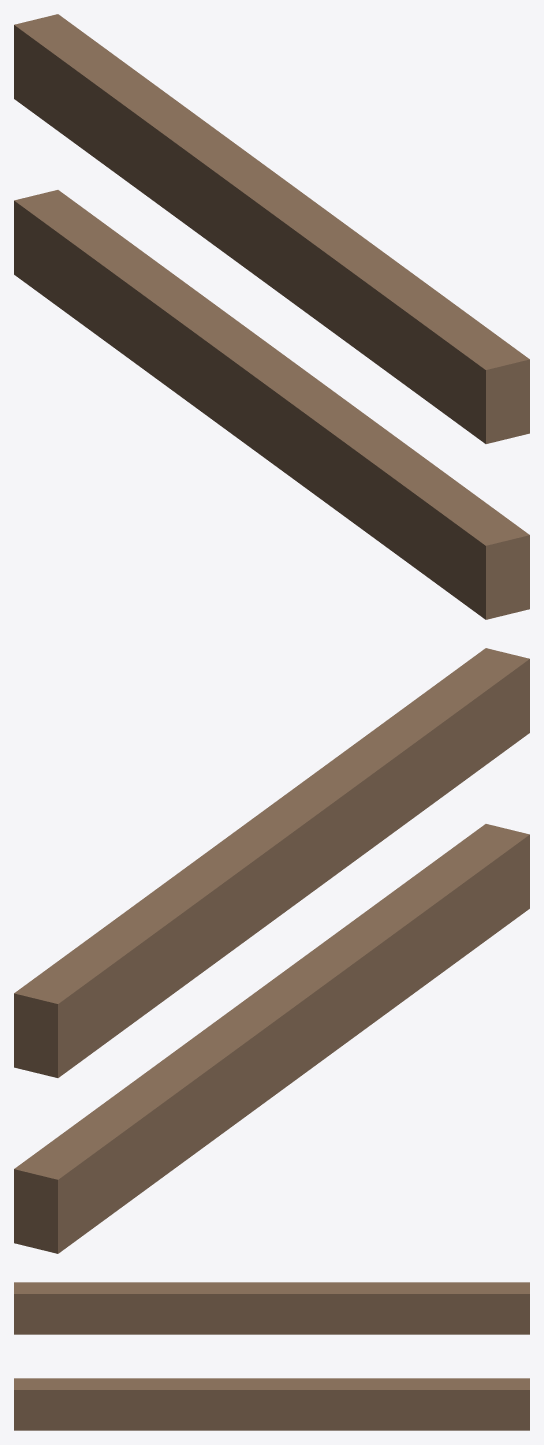
The model's file is Wood_Fence_Partial_No_Posts.fbx.
The picture shows the model from 3 angles, top to bottom: view 1: azimuth 30°, elevation 25°; view 2: azimuth 150°, elevation 25°; view 3: azimuth 270°, elevation 25°; orthographic projection. The views are drawn at different scales.
Parts seen in each view (by area): view 1: Wood_Fence_Partial_No_Posts; view 2: Wood_Fence_Partial_No_Posts; view 3: Wood_Fence_Partial_No_Posts.
Boxes of the visible parts, x1,y1,x2,y2 form: Wood_Fence_Partial_No_Posts: (14, 14, 529, 619); Wood_Fence_Partial_No_Posts: (14, 648, 529, 1253); Wood_Fence_Partial_No_Posts: (14, 1282, 529, 1430).
Size of the model in its own units: 0.1279 by 0.6916 by 2.37.
